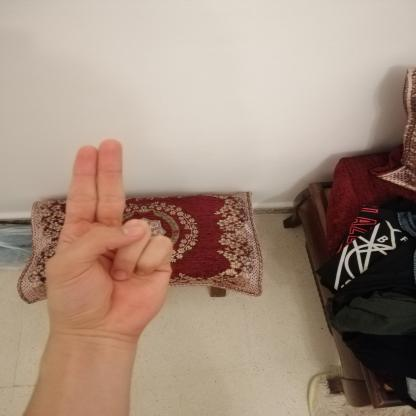TA: (27, 127, 188, 353)
